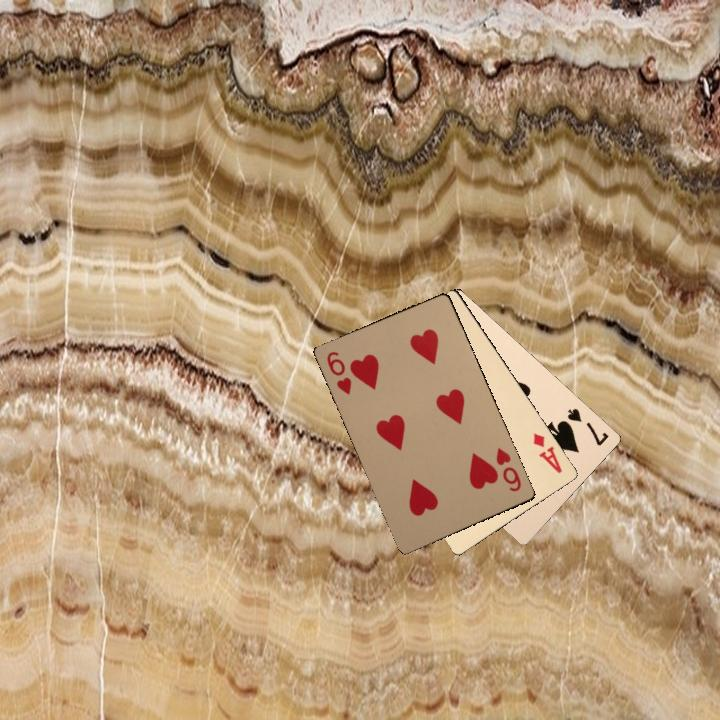6h: (492, 445, 524, 494), (323, 347, 354, 397)
7s: (563, 404, 612, 448)
Ad: (529, 429, 565, 476)
